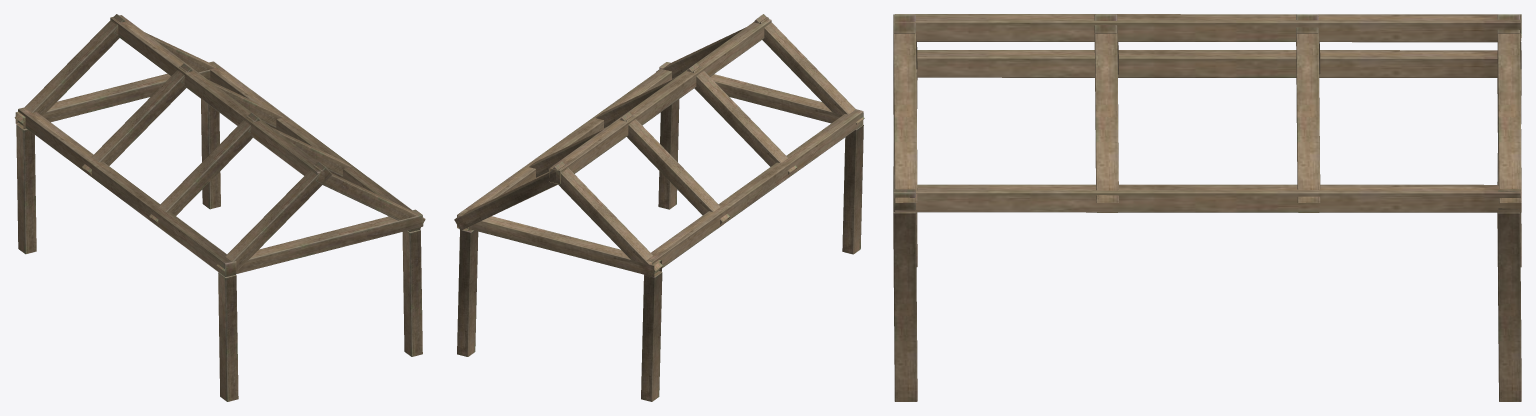
Rendered from loft-rafters.glb.
3 views of the same model, side by side, from view 1: azimuth 30°, elevation 25°; view 2: azimuth 150°, elevation 25°; view 3: azimuth 270°, elevation 25° (orthographic). The views are drawn at different scales.
Visible parts, largest first — view 1: loft-rafters; view 2: loft-rafters; view 3: loft-rafters.
Boxes of the visible parts, box(x1,y1,x2,y2) form: loft-rafters: box(14, 14, 425, 401); loft-rafters: box(454, 14, 864, 401); loft-rafters: box(893, 14, 1521, 401).
Bounding box in the file's own units: 2 × 2 × 3.6.
Materials: 1 (1 with a texture image).
